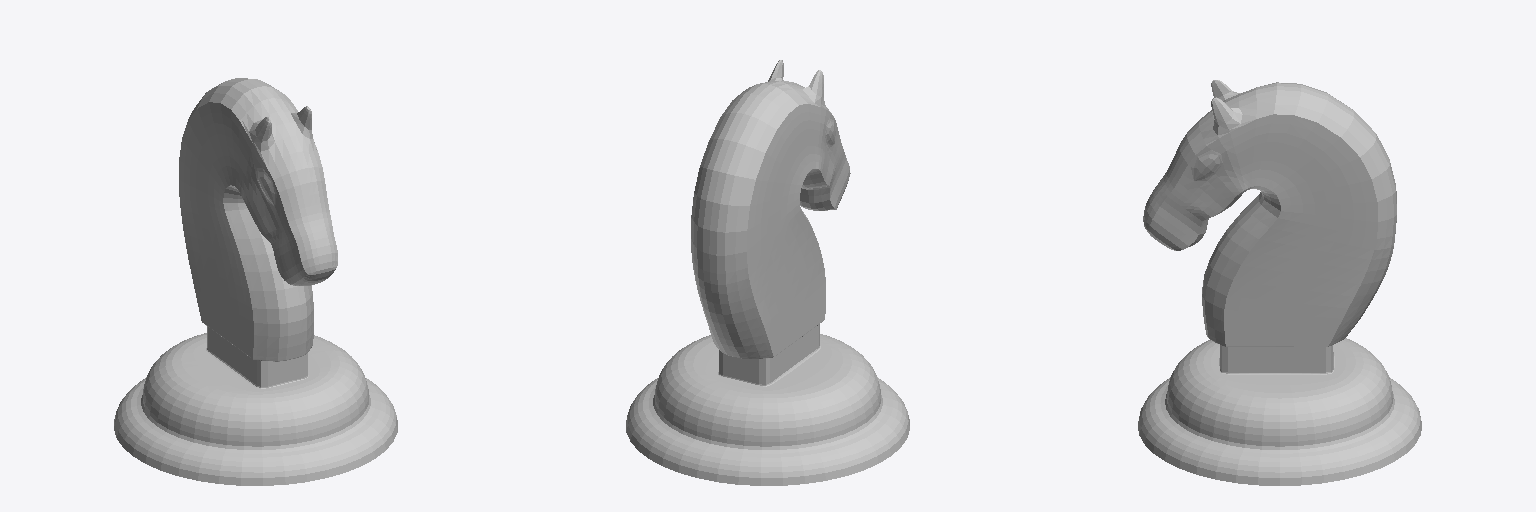
File: whitehorse.obj
The picture shows the model from 3 angles: view 1: azimuth 30°, elevation 25°; view 2: azimuth 150°, elevation 25°; view 3: azimuth 270°, elevation 25°; orthographic projection.
Visible parts, largest first — view 1: white_knight2_Mesh.015; view 2: white_knight2_Mesh.015; view 3: white_knight2_Mesh.015.
Boxes of the visible parts, box(x1,y1,x2,y2) form: white_knight2_Mesh.015: box(114, 78, 397, 485); white_knight2_Mesh.015: box(626, 60, 909, 485); white_knight2_Mesh.015: box(1138, 80, 1421, 485).
Size of the model in its own units: 0.1692 by 0.2229 by 0.1692.